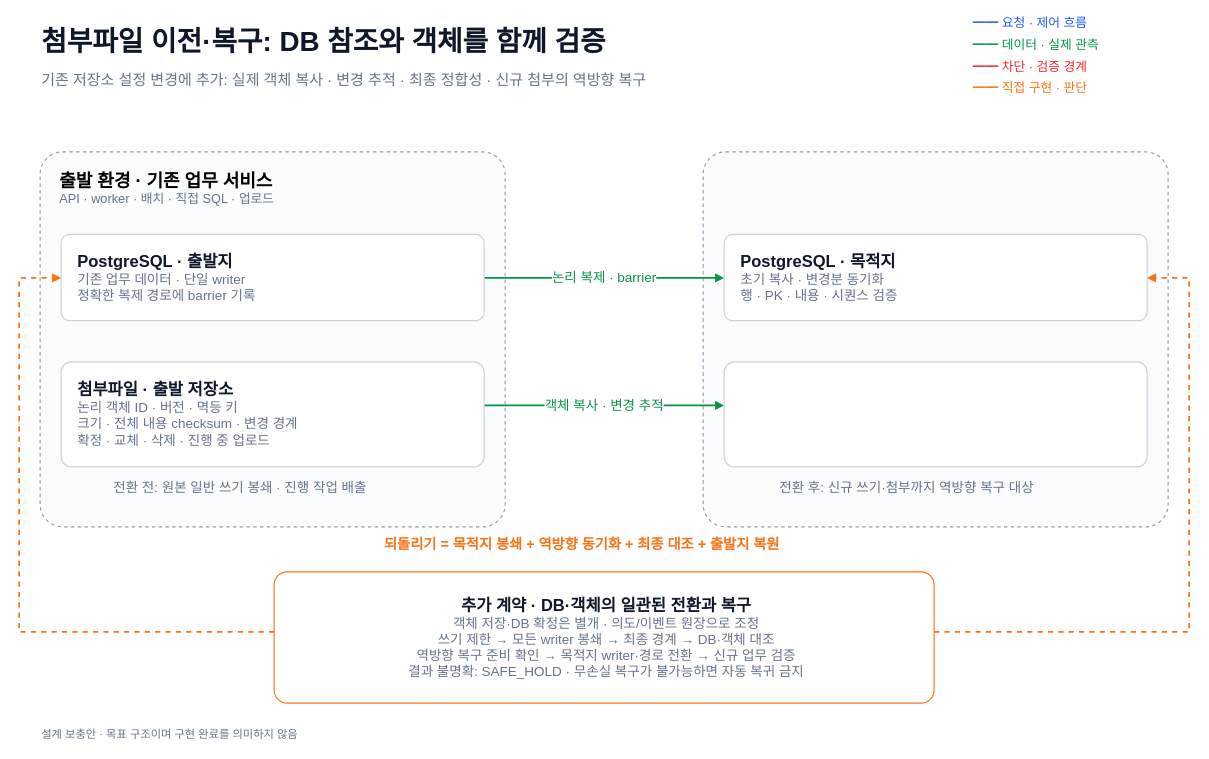
The diagram is 1209 pixels wide and 759 high, and some of its shapes have lost their labels. Each missing label, with the box of its shape:
목적 환경 · 이전 대상 서비스 새 writer를 열기 전 최종 대조와 복구 준비: (702, 151, 1168, 527)
첨부파일 · 목적 저장소 목적지 객체 참조 · 버전 별도 기록 객체 복사·최종 변경·DB 참조 대조 새 첨부·교체·삭제도 역방향 반영: (723, 361, 1147, 467)
